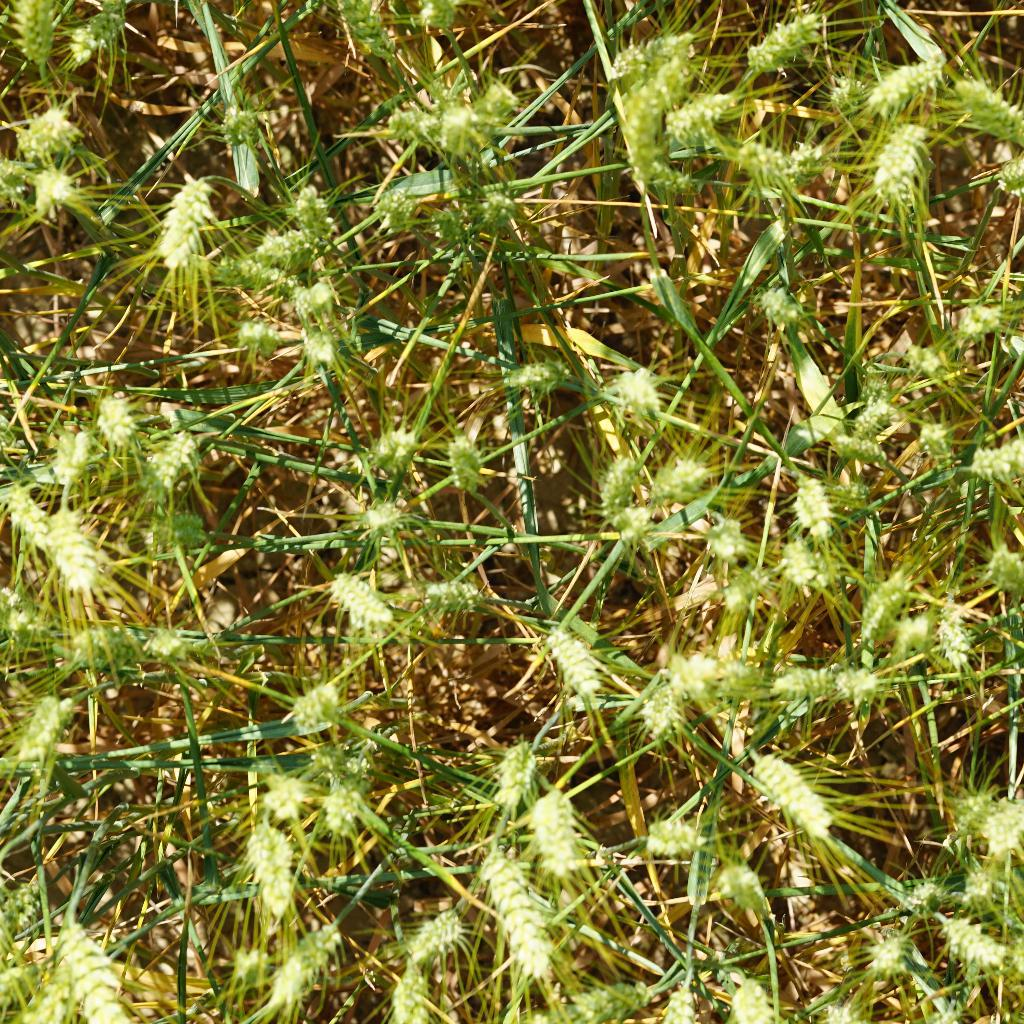0-0: (591, 59, 699, 194), (477, 832, 552, 970), (56, 926, 145, 1024), (747, 744, 837, 837), (156, 164, 225, 275), (518, 781, 600, 874), (38, 503, 116, 591), (275, 915, 340, 1019), (531, 610, 604, 701), (10, 101, 107, 168), (870, 44, 959, 114), (874, 108, 934, 206), (739, 10, 823, 79), (452, 78, 529, 146), (246, 821, 303, 912), (331, 561, 403, 632), (15, 688, 78, 769), (549, 972, 645, 1024), (34, 408, 96, 488), (718, 859, 788, 929), (63, 0, 131, 71), (137, 426, 204, 496), (847, 568, 903, 650), (636, 804, 717, 860), (430, 430, 493, 501), (733, 135, 799, 202), (945, 922, 1021, 980), (863, 927, 934, 989), (591, 363, 671, 418), (493, 732, 545, 814), (772, 533, 840, 595), (2, 0, 62, 70), (664, 90, 731, 152), (496, 351, 574, 402), (953, 82, 1024, 138), (321, 0, 400, 50), (280, 680, 357, 731), (739, 272, 804, 332), (714, 967, 781, 1024), (843, 389, 916, 440), (311, 777, 370, 840), (71, 621, 145, 671), (253, 762, 311, 825), (399, 911, 466, 965), (781, 470, 841, 530), (668, 645, 731, 702), (281, 185, 346, 240), (381, 965, 441, 1024), (692, 507, 751, 567), (21, 161, 90, 212), (260, 216, 326, 269), (970, 535, 1024, 598), (227, 250, 292, 302), (92, 384, 144, 449), (931, 610, 983, 675), (591, 443, 642, 509), (950, 864, 1012, 918), (384, 93, 447, 146), (156, 504, 219, 557), (365, 422, 418, 481), (828, 428, 904, 468), (216, 92, 268, 150), (0, 600, 55, 654), (979, 804, 1024, 870), (362, 486, 413, 544), (600, 32, 658, 83), (950, 294, 1013, 340), (0, 481, 51, 537), (415, 572, 478, 617), (763, 664, 832, 705), (942, 784, 996, 836), (145, 620, 198, 672), (609, 503, 662, 555), (227, 935, 272, 996), (0, 948, 40, 1016), (642, 978, 701, 1024), (975, 430, 1024, 485), (298, 318, 343, 377), (286, 276, 346, 320), (833, 668, 888, 716), (900, 336, 955, 384), (641, 684, 691, 736), (780, 137, 830, 189), (889, 615, 944, 661), (658, 456, 714, 501), (903, 871, 949, 925), (460, 179, 511, 227), (373, 182, 419, 232), (650, 25, 701, 70), (825, 66, 869, 115), (232, 314, 281, 357), (920, 415, 960, 467), (430, 194, 468, 243), (307, 741, 356, 778), (990, 138, 1024, 185)
